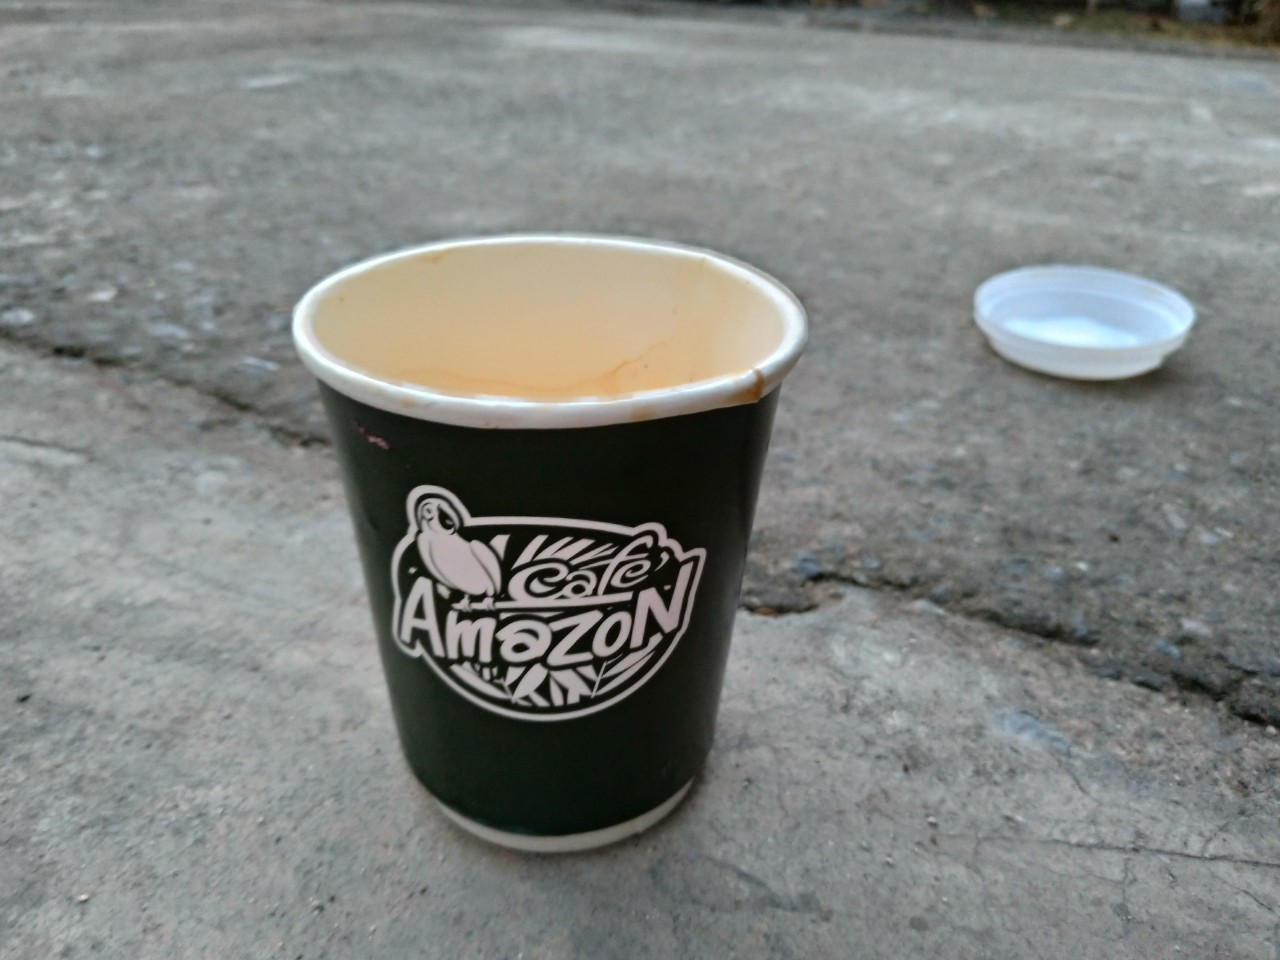PaperCup: (293, 225, 814, 855)
